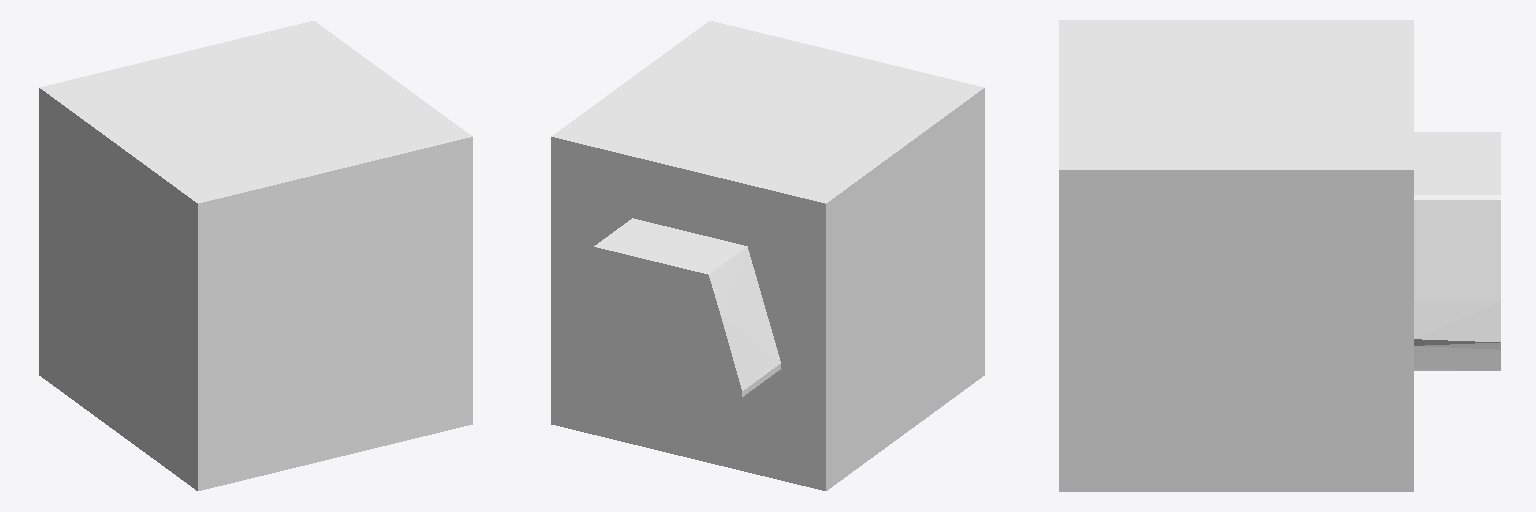
URDF robot description (Pentagon_cube_cap_preprocessed_convex):
<?xml version="1.0" ?>
<robot name="Pentagon_cube_cap_preprocessed_convex">
  <link name="baseLink">
    <contact>
    	<friction_anchor/>
    	   <lateral_friction value="1.0"/>
    </contact>
    <inertial>
      <origin rpy="0 0 0" xyz="0 0 0"/>
       <!-- mass controls penetration -->
       <mass value=".5"/>
       <inertia ixx="1e-4" ixy="0" ixz="0" iyy="1e-4" iyz="0" izz="1e-4"/>
    </inertial>
    <visual>
      <origin rpy="0 0 0" xyz="0 0 0"/>
      <geometry>
        <mesh filename="Pentagon_cube_cap_preprocessed_convex.obj"/>
      </geometry>
       <material name="white">
        <color rgba="1 1 1 1"/>
      </material>
    </visual>
    <collision>
      <origin rpy="0 0 0" xyz="0 0 0"/>
      <geometry>
        <mesh filename="Pentagon_cube_cap_preprocessed_convex.obj"/>
      </geometry>
    </collision>
  </link>
</robot>

--- What the picture shows (computed from the rendered views, not written in the file) ---
The picture shows the robot from 3 angles, left to right: view 1: azimuth 30°, elevation 25°; view 2: azimuth 150°, elevation 25°; view 3: azimuth 270°, elevation 25°; orthographic projection.
Robot: Pentagon_cube_cap_preprocessed_convex — 1 links, 0 joints (none); root link baseLink; default pose: all joints at 0.
Links seen in each view (by area): view 1: baseLink; view 2: baseLink; view 3: baseLink.
Link boxes in pixels (x1=…): baseLink: x1=39, y1=21, x2=472, y2=490; baseLink: x1=551, y1=21, x2=984, y2=490; baseLink: x1=1059, y1=20, x2=1500, y2=491.
Size in the robot's own frame: 0.081 by 0.1008 by 0.081 metres.
Meshes: 1 distinct files referenced, 1 mesh visuals loaded (1 OBJ).